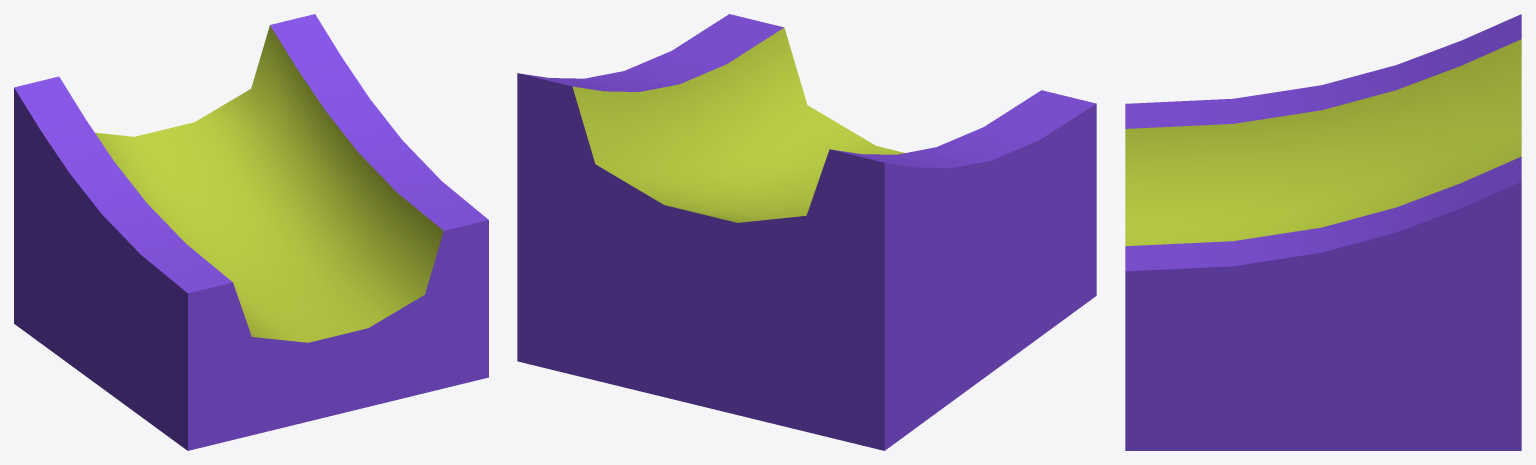
File: rampStart_solid_B-col.dae
The picture shows the model from 3 angles, left to right: view 1: azimuth 30°, elevation 25°; view 2: azimuth 150°, elevation 25°; view 3: azimuth 270°, elevation 25°; orthographic projection. The views are drawn at different scales.
Visible parts, largest first — view 1: rampStart_solid_B-col; view 2: rampStart_solid_B-col; view 3: rampStart_solid_B-col.
Boxes of the visible parts, x1,y1,x2,y2 form: rampStart_solid_B-col: [14, 14, 488, 450]; rampStart_solid_B-col: [517, 14, 1096, 450]; rampStart_solid_B-col: [1125, 14, 1521, 450].
Bounding box in the file's own units: 1 × 1 × 0.75.
